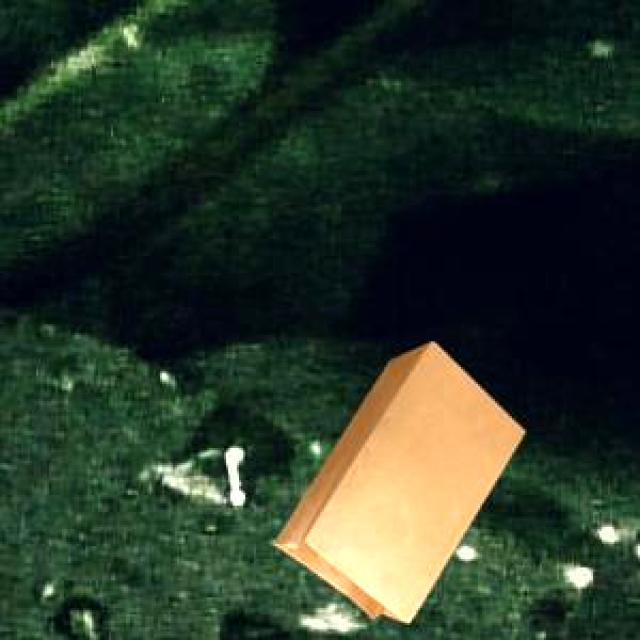Paper_Bag: (272, 338, 522, 620)
